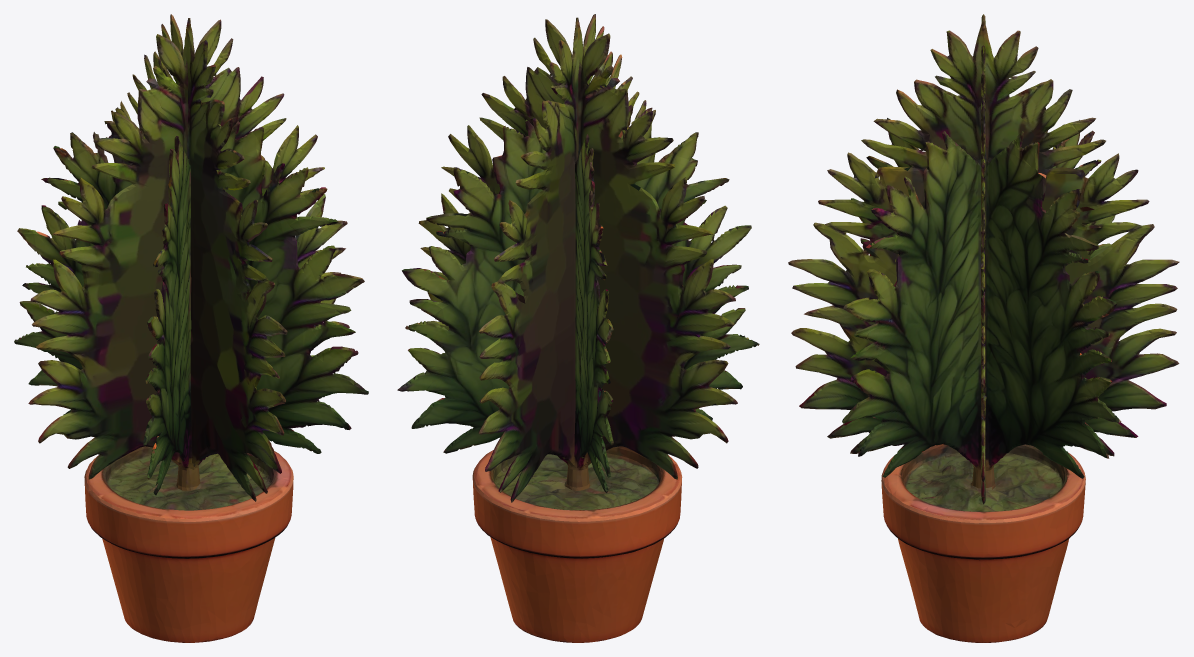
The model's file is cafe-planter.glb.
3 renders of one model, left to right at view 1: azimuth 30°, elevation 25°; view 2: azimuth 150°, elevation 25°; view 3: azimuth 270°, elevation 25°, orthographic.
Visible parts, largest first — view 1: textured; view 2: textured; view 3: textured.
Boxes of the visible parts, x1,y1,x2,y2 form: textured: (14, 14, 368, 642); textured: (397, 14, 759, 642); textured: (788, 14, 1179, 642).
Bounding box in the file's own units: 1.12 × 1.99 × 1.19.
Materials: 1 (1 with a texture image).
